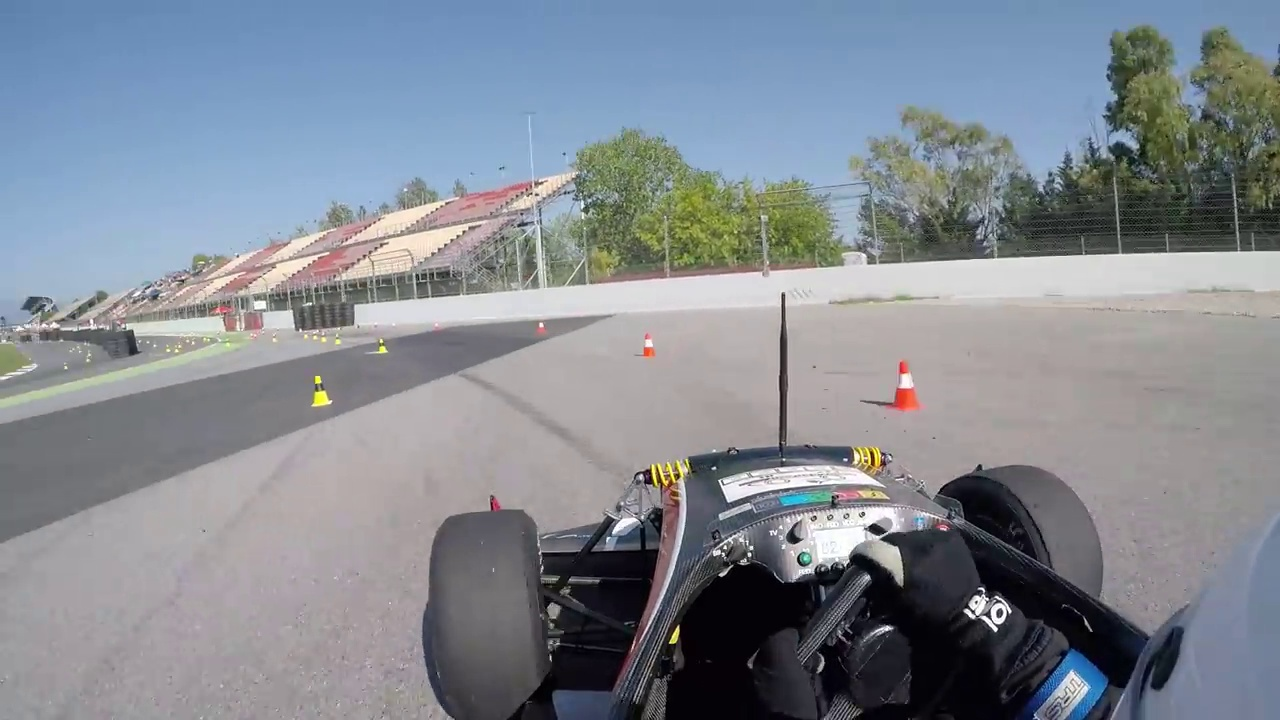Cone: (889, 359, 920, 409), (309, 373, 336, 409)
